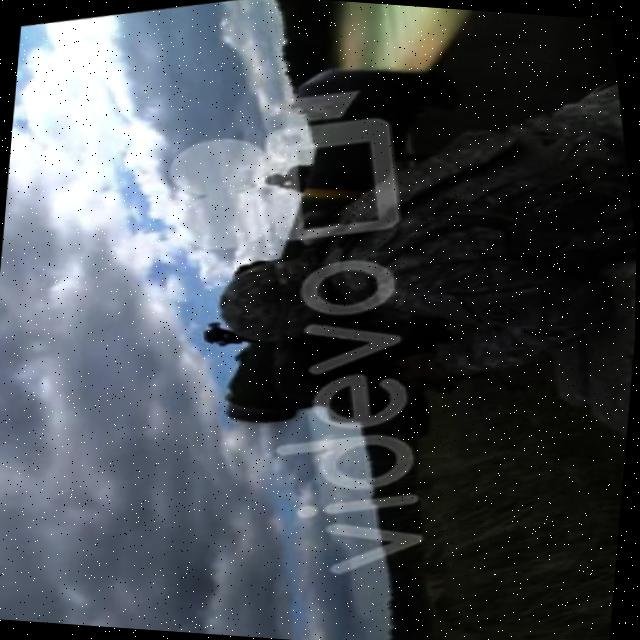rocket: (162, 39, 503, 444)
